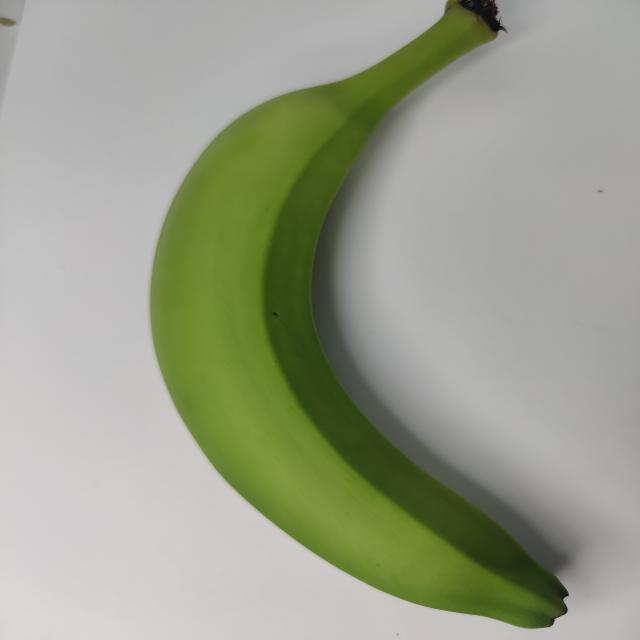raw: (130, 0, 594, 635)
